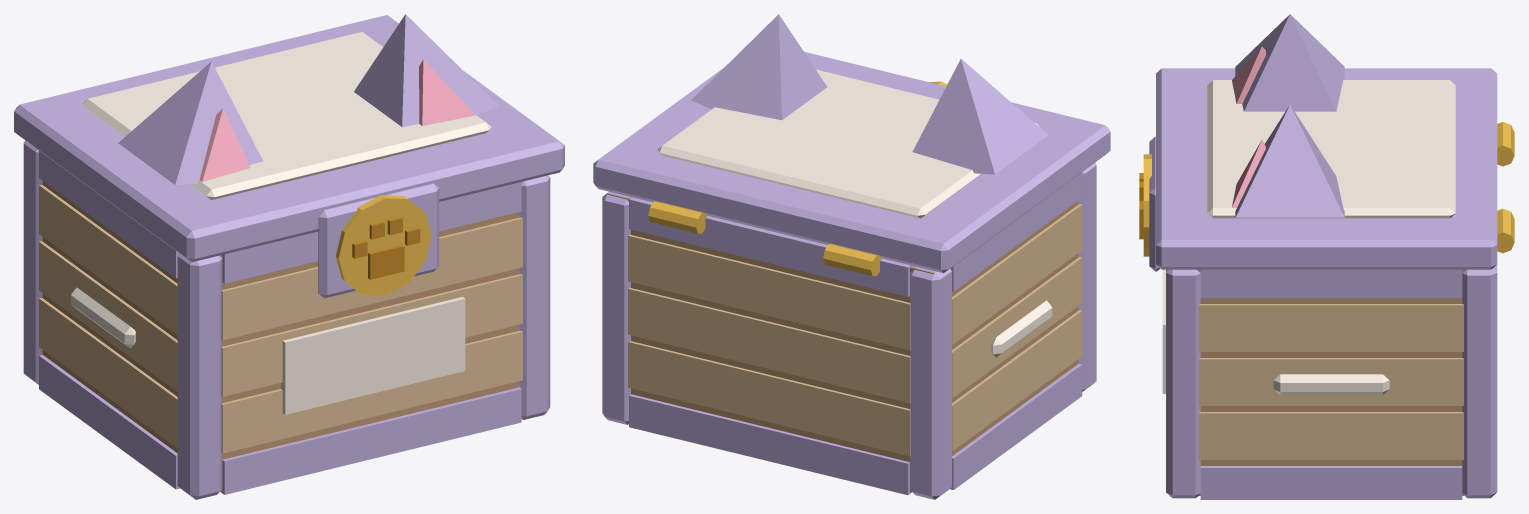
Rendered from CleanACat_Prop_PetCrate.fbx.
The picture shows the model from 3 angles, left to right: view 1: azimuth 30°, elevation 25°; view 2: azimuth 150°, elevation 25°; view 3: azimuth 270°, elevation 25°; orthographic projection. The views are drawn at different scales.
Visible parts, largest first — view 1: CleanACat_Prop_PetCrate, CleanACat_Prop_PetCrate_Lid_Swing, CleanACat_Prop_PetCrate_Screen; view 2: CleanACat_Prop_PetCrate, CleanACat_Prop_PetCrate_Lid_Swing; view 3: CleanACat_Prop_PetCrate, CleanACat_Prop_PetCrate_Lid_Swing, CleanACat_Prop_PetCrate_Screen.
Boxes of the visible parts, <box> form: CleanACat_Prop_PetCrate: <box>23,140,550,499</box>; CleanACat_Prop_PetCrate_Lid_Swing: <box>14,14,564,298</box>; CleanACat_Prop_PetCrate_Screen: <box>281,297,465,414</box>; CleanACat_Prop_PetCrate: <box>602,163,1096,499</box>; CleanACat_Prop_PetCrate_Lid_Swing: <box>593,14,1110,273</box>; CleanACat_Prop_PetCrate: <box>1166,122,1514,499</box>; CleanACat_Prop_PetCrate_Lid_Swing: <box>1139,14,1497,271</box>; CleanACat_Prop_PetCrate_Screen: <box>1162,269,1165,393</box>.
Size of the model in its own units: 2.52 by 2.39 by 2.27.
Materials: 1 (1 with a texture image).
